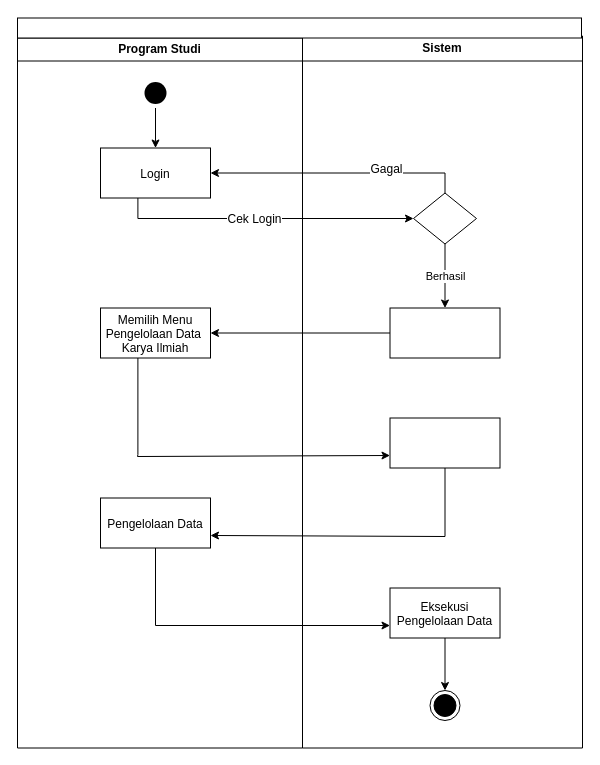
This 600x765 diagram has some shape labels left out. Here are the shapes that lost their labels. From the top down, the centre of each, then its label:
At (x=299, y=27): "Mengelola Data Karya Ilmiah".
At (x=444, y=332): "Menampilkan Halaman Dashboard".
At (x=444, y=442): "Menampilkan List Data Karya Ilmiah".
